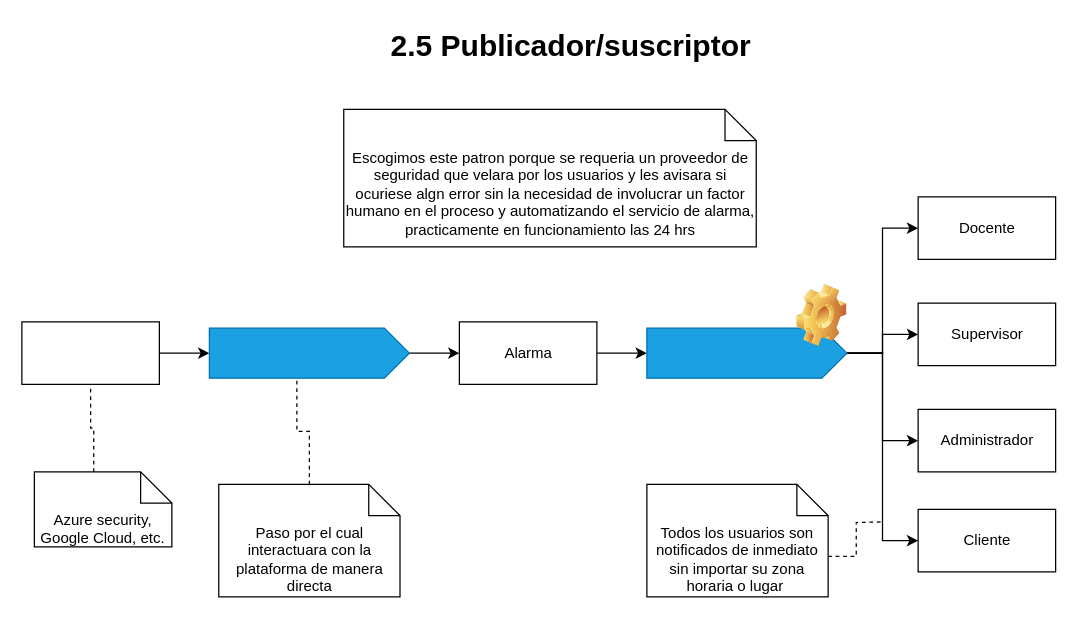
Some shapes in this 1078 by 619 pixel diagram are drawn without their labels. The shapes that lost their labels are listed below. From the top down, each one's box as (x1, y1, x2, y2) in pixels, then its label:
(21, 321, 159, 384): Proveedor
(208, 327, 409, 378): Canal de alarma
(646, 327, 847, 378): Disparo de alarma
